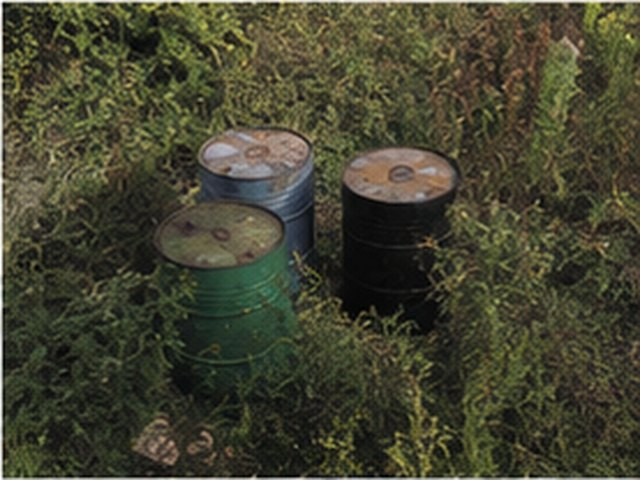container: (154, 201, 295, 390), (342, 147, 459, 328), (198, 128, 314, 258)
